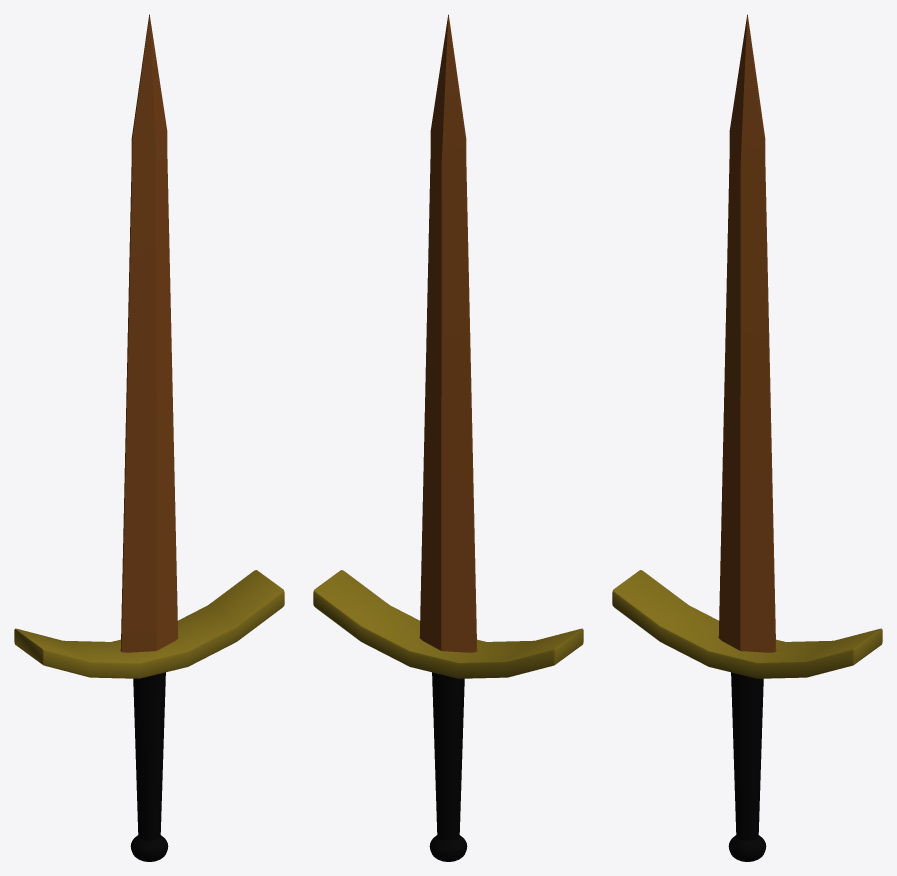
File: TwoHand_Sword_Rust.fbx
3 renders of one model, left to right at view 1: azimuth 30°, elevation 25°; view 2: azimuth 150°, elevation 25°; view 3: azimuth 330°, elevation 25°, orthographic.
Parts seen in each view (by area): view 1: TwoHand_Sword_Rust; view 2: TwoHand_Sword_Rust; view 3: TwoHand_Sword_Rust.
Boxes of the visible parts, left/top/right/bottom form: TwoHand_Sword_Rust: left=14, top=14, right=284, bottom=861; TwoHand_Sword_Rust: left=313, top=14, right=583, bottom=861; TwoHand_Sword_Rust: left=612, top=14, right=882, bottom=861.
Bounding box in the file's own units: 426 × 1416 × 89.66.
